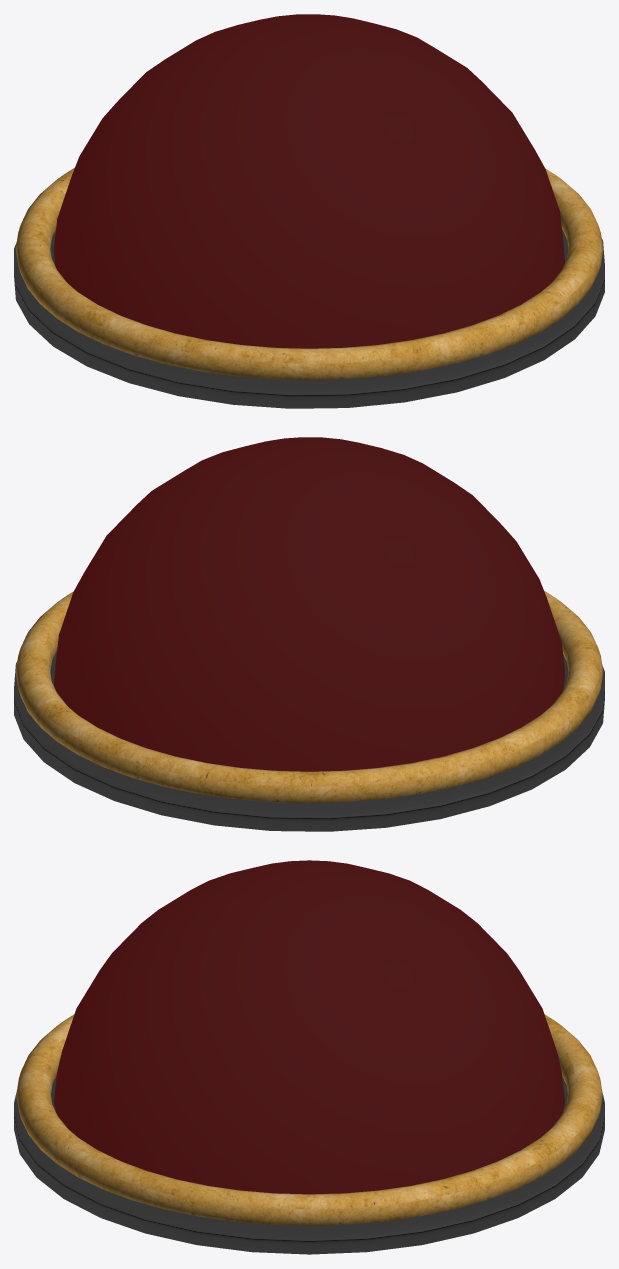
The model's file is indicator2_red.gltf.
The picture shows the model from 3 angles, top to bottom: view 1: azimuth 30°, elevation 25°; view 2: azimuth 150°, elevation 25°; view 3: azimuth 270°, elevation 25°; orthographic projection.
Parts seen in each view (by area): view 1: Sphere, Torus, Cylinder; view 2: Sphere, Torus, Cylinder; view 3: Sphere, Torus, Cylinder.
Part boxes in pixels (x1,y1,x2,y2): Sphere: (54,14,564,348); Torus: (15,167,603,380); Cylinder: (14,229,604,408); Sphere: (54,437,564,771); Torus: (15,590,603,803); Cylinder: (14,652,604,831); Sphere: (54,860,564,1194); Torus: (16,1014,602,1225); Cylinder: (14,1077,604,1254).
Size of the model in its own units: 4 by 1.83 by 4.
Materials: 4 (1 with a texture image).
